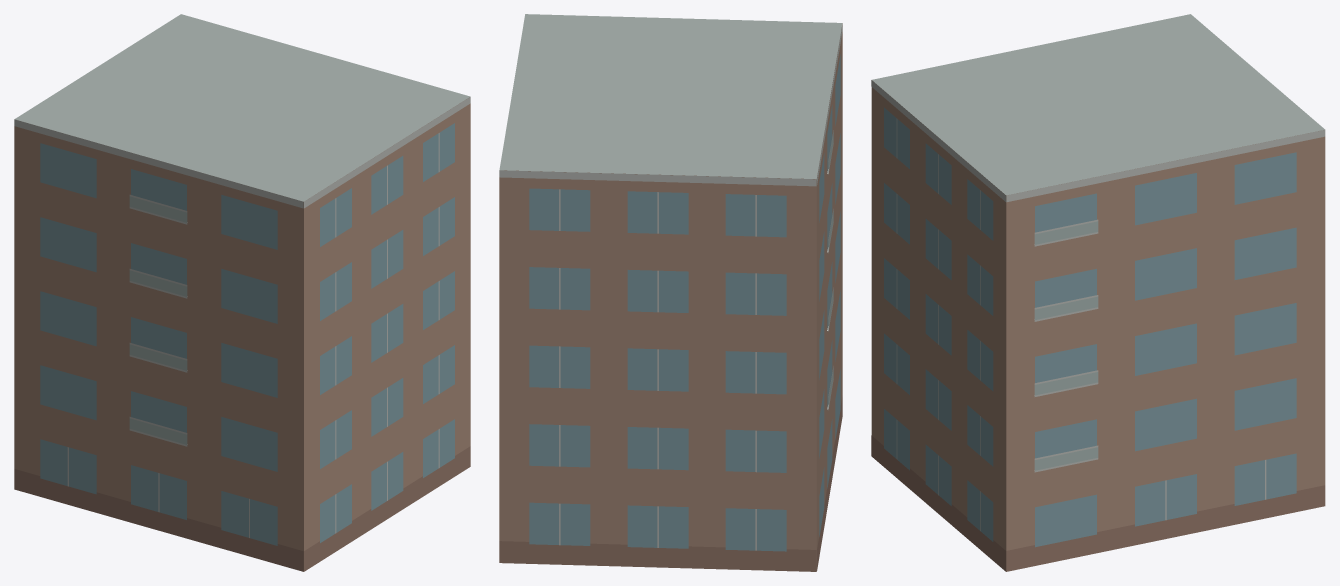
The model's file is survey-upis-32727444.glb.
3 views of the same model, side by side, from view 1: azimuth 30°, elevation 25°; view 2: azimuth 150°, elevation 25°; view 3: azimuth 270°, elevation 25° (orthographic). The views are drawn at different scales.
Visible parts, largest first — view 1: survey-upis-32727444.tmp; view 2: survey-upis-32727444.tmp; view 3: survey-upis-32727444.tmp.
Boxes of the visible parts, x1,y1,x2,y2 form: survey-upis-32727444.tmp: [14, 14, 470, 571]; survey-upis-32727444.tmp: [499, 14, 842, 571]; survey-upis-32727444.tmp: [871, 14, 1325, 571].
Size of the model in its own units: 13.7 by 13.25 by 14.49.
